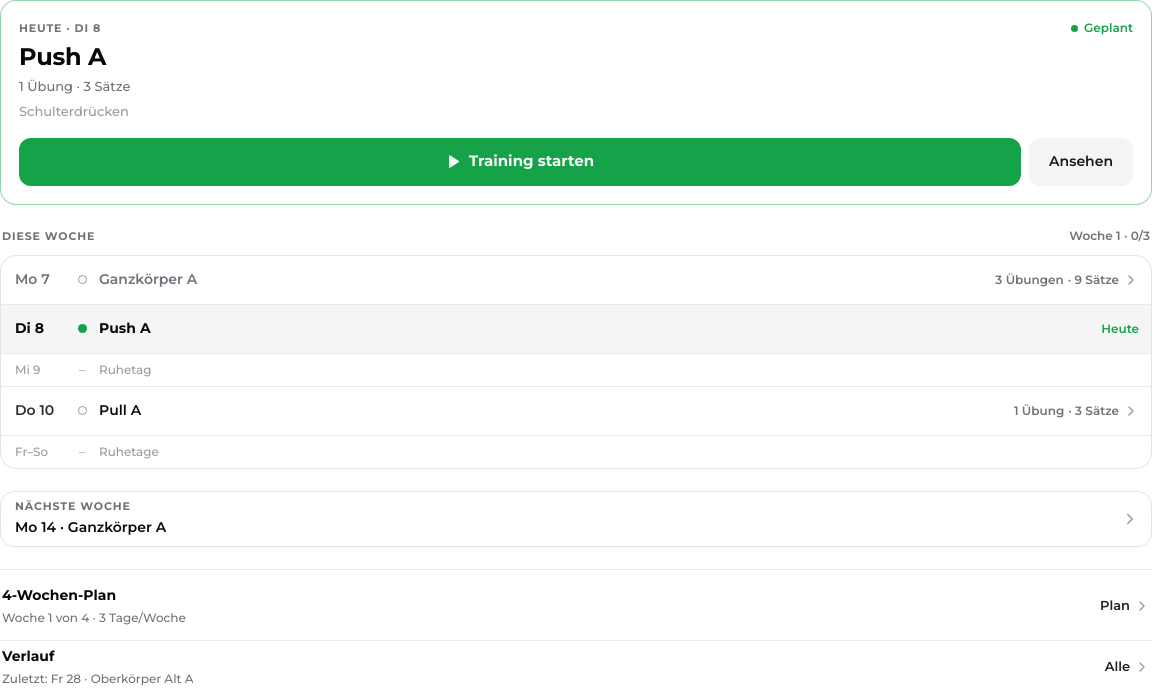
Test: Verlauf › pages 30 sessions at a time, counting sessions rather than mixed documents
(page scrolled)
Click the button "Verlauf Zuletzt: Fr 28 · Oberkörper Alt A Alle": (28, 656) [0,640,1151,692]
(page scrolled)
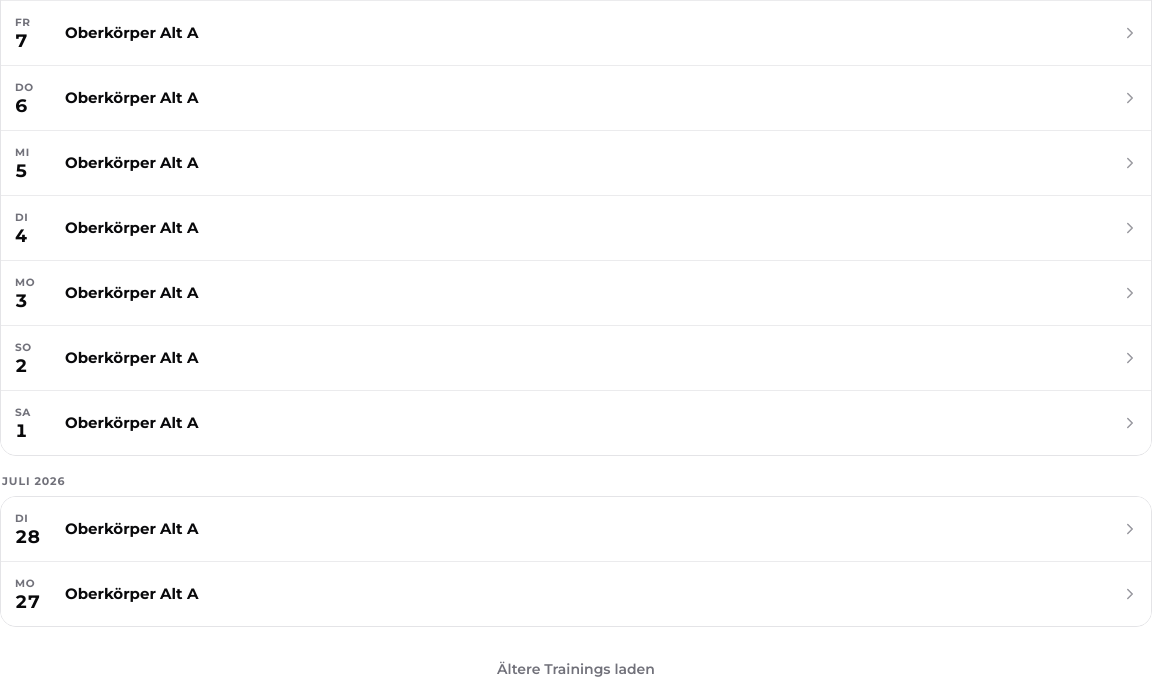
Click the button "Ältere Trainings laden": (576, 669) [0,645,1151,692]
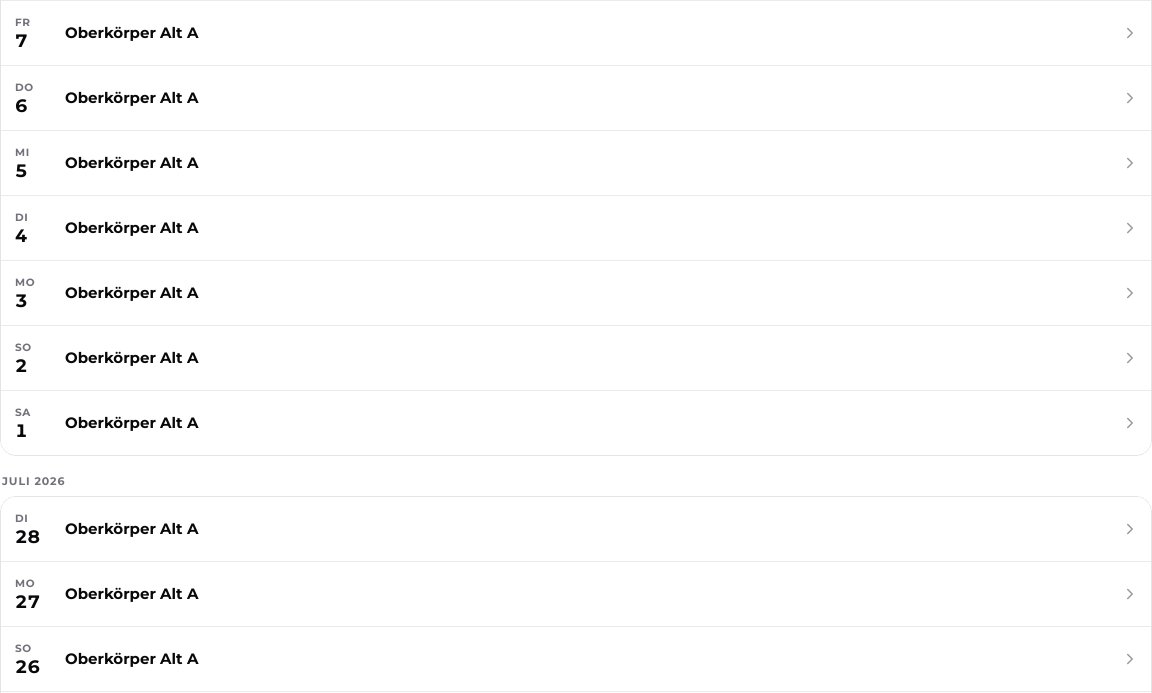
expect the button "Ältere Trainings laden" is gone: met
